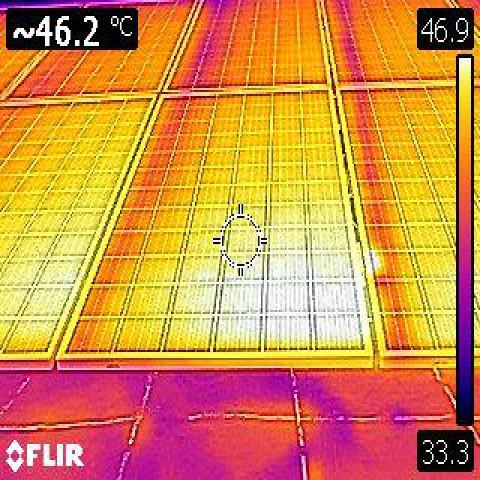fault: (271, 202, 362, 349)
